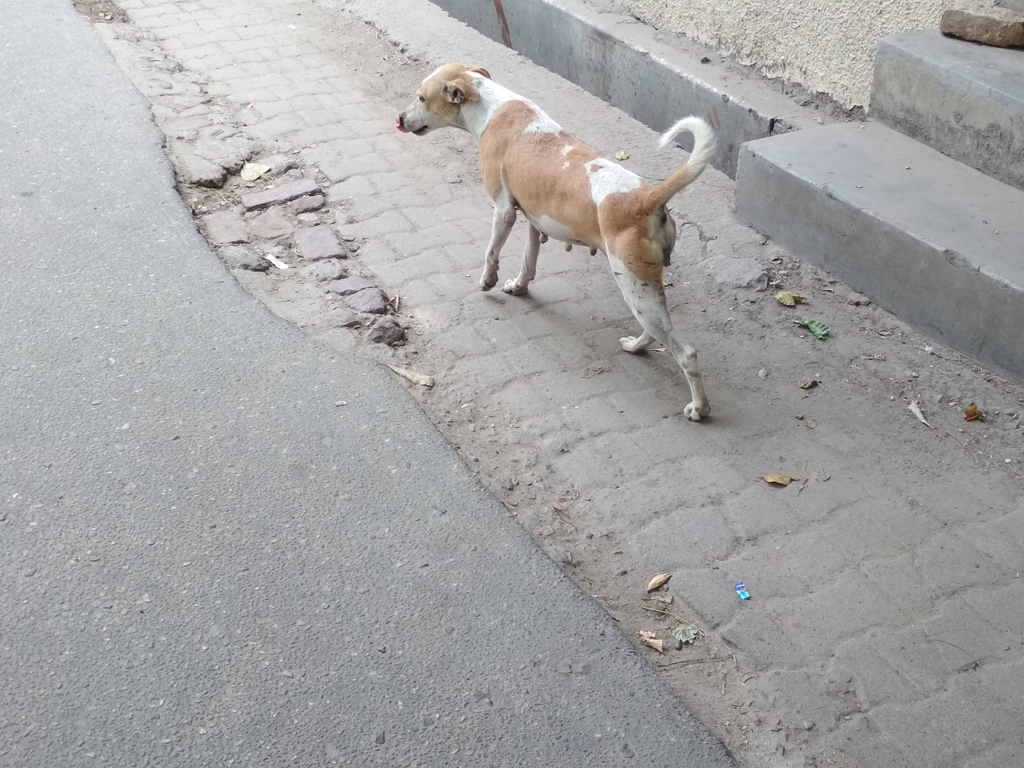dog: (397, 63, 716, 422)
